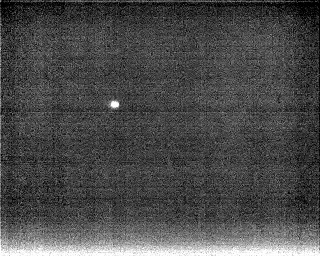AIRPLANE: (108, 98, 122, 111)
